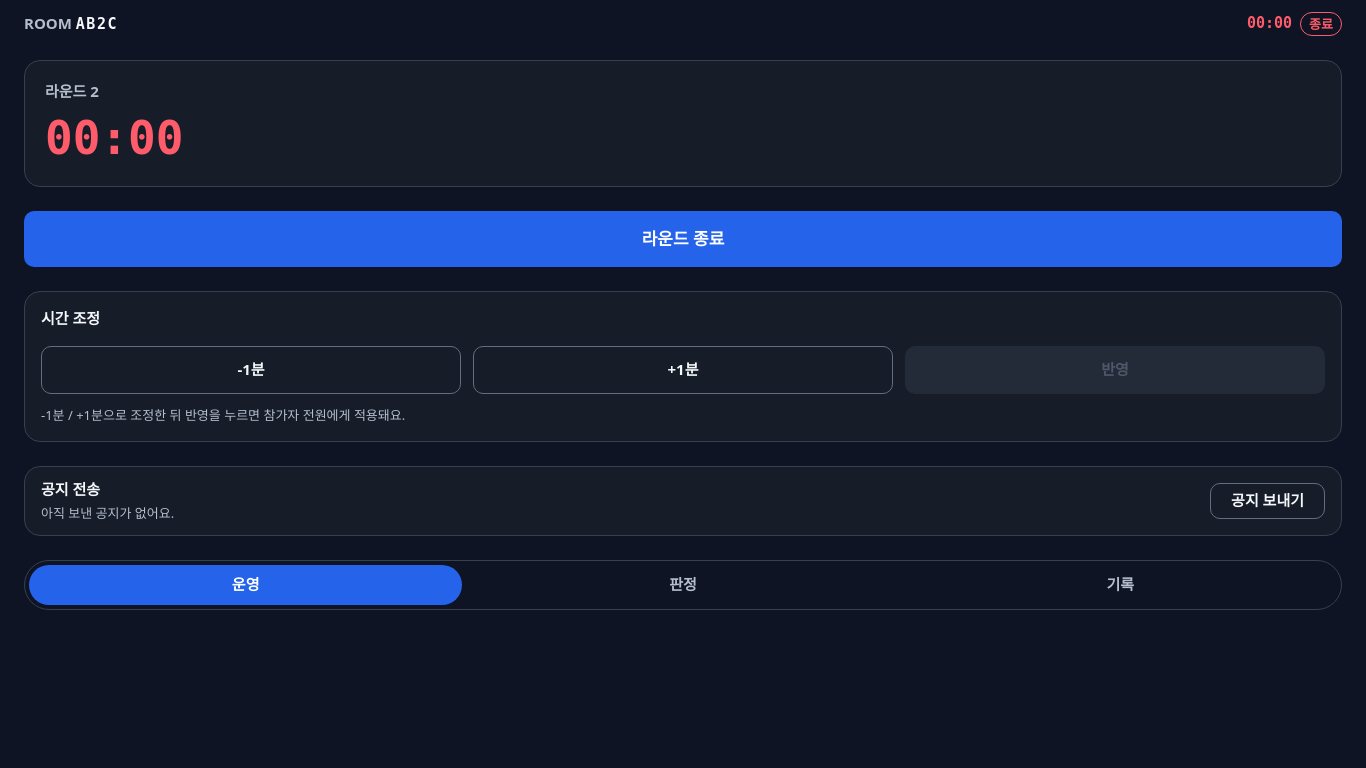
Test: RoundOpsPage › 라운드 종료 › 캐시에서만 나온 0건(fromCache)이면 리스너 오류가 없어도 확인을 받는다
What coordinates should you click on to do the following:
click the button "라운드 종료"
I would click on:
 (683, 239)
Its box is [24,211,1342,267].
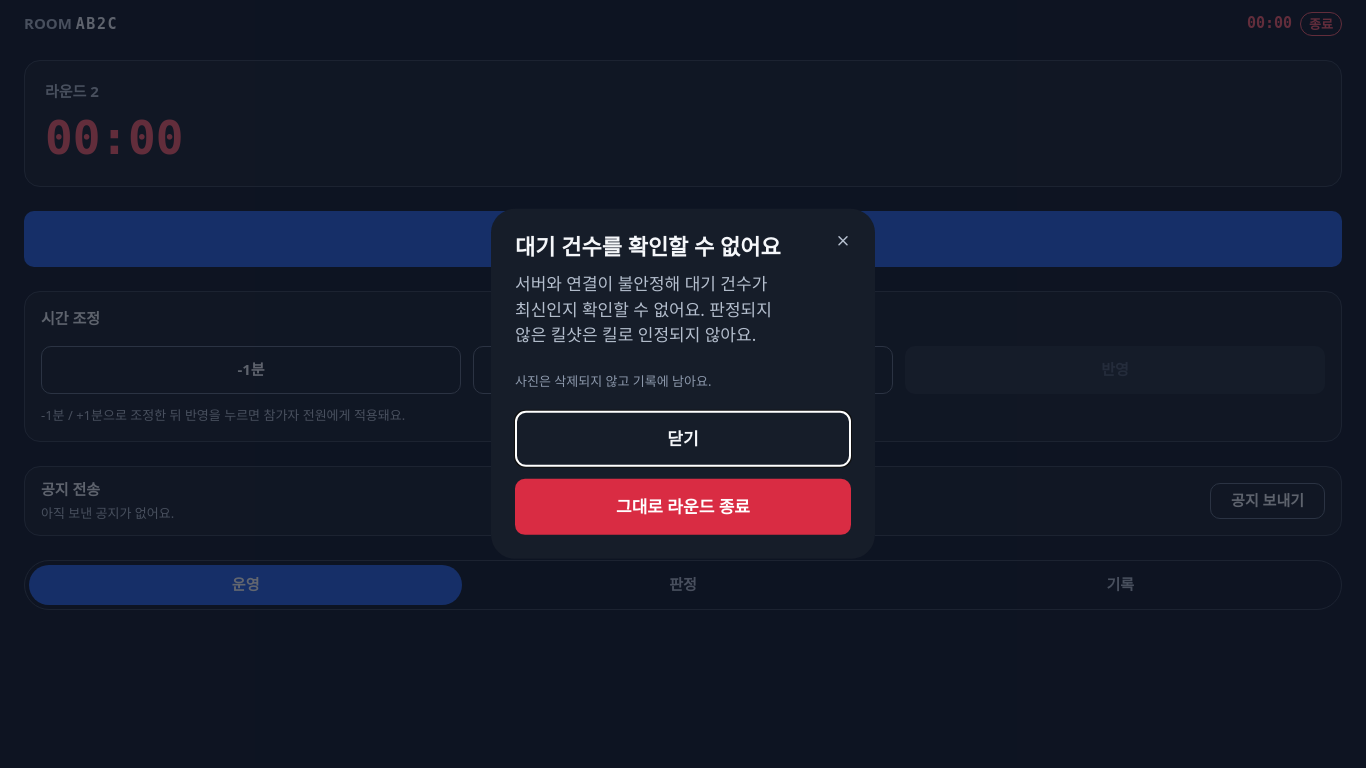
Expected: the text "대기 건수를 확인할 수 없어요" is shown, [515,231,781,261]
Expected: the text "서버와 연결이 불안정해" is shown, [515,272,772,346]
